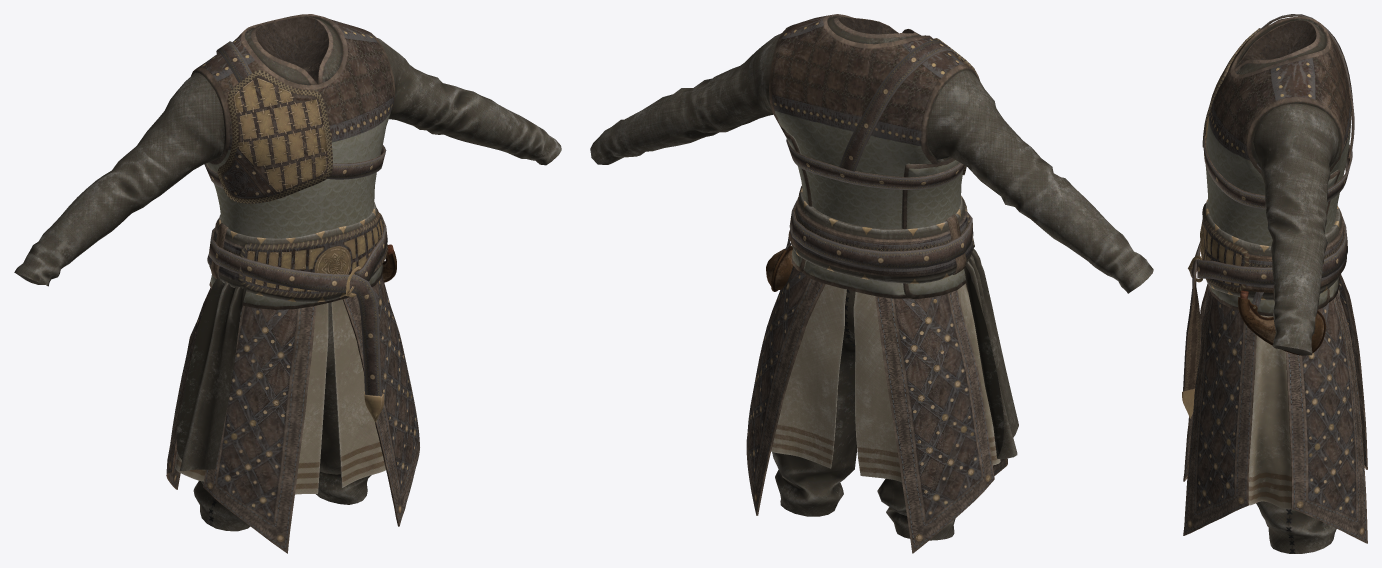
The model's file is dunland_wulf_scalemail_elite_b.fbx.
3 views of the same model, side by side, from view 1: azimuth 30°, elevation 25°; view 2: azimuth 150°, elevation 25°; view 3: azimuth 270°, elevation 25° (orthographic). The views are drawn at different scales.
Visible parts, largest first — view 1: dunland_wulf_scalemail_elite_b.base, dunland_wulf_scalemail_elite_b.leatherskirt, dunland_wulf_scalemail_elite_b.prop, dunland_wulf_scalemail_elite_b.skirt, dunland_wulf_scalemail_elite_b.belt; view 2: dunland_wulf_scalemail_elite_b.base, dunland_wulf_scalemail_elite_b.leatherskirt, dunland_wulf_scalemail_elite_b.skirt, dunland_wulf_scalemail_elite_b.prop, dunland_wulf_scalemail_elite_b.belt; view 3: dunland_wulf_scalemail_elite_b.base, dunland_wulf_scalemail_elite_b.leatherskirt, dunland_wulf_scalemail_elite_b.prop, dunland_wulf_scalemail_elite_b.skirt, dunland_wulf_scalemail_elite_b.belt.
Part boxes in pixels (x1,y1,x2,y2): dunland_wulf_scalemail_elite_b.base: (14, 14, 561, 531); dunland_wulf_scalemail_elite_b.leatherskirt: (166, 70, 419, 553); dunland_wulf_scalemail_elite_b.prop: (176, 41, 396, 471); dunland_wulf_scalemail_elite_b.skirt: (175, 299, 385, 494); dunland_wulf_scalemail_elite_b.belt: (207, 202, 387, 302); dunland_wulf_scalemail_elite_b.base: (590, 14, 1153, 540); dunland_wulf_scalemail_elite_b.leatherskirt: (746, 38, 1007, 553); dunland_wulf_scalemail_elite_b.skirt: (771, 283, 1000, 482); dunland_wulf_scalemail_elite_b.prop: (766, 40, 1018, 458); dunland_wulf_scalemail_elite_b.belt: (788, 186, 974, 283); dunland_wulf_scalemail_elite_b.base: (1205, 16, 1352, 553); dunland_wulf_scalemail_elite_b.leatherskirt: (1183, 28, 1367, 543); dunland_wulf_scalemail_elite_b.prop: (1182, 14, 1354, 418); dunland_wulf_scalemail_elite_b.skirt: (1248, 290, 1339, 508); dunland_wulf_scalemail_elite_b.belt: (1200, 199, 1346, 301).
Bounding box in the file's own units: 1.38 × 0.41 × 1.18.
4 materials, 4 textured.
